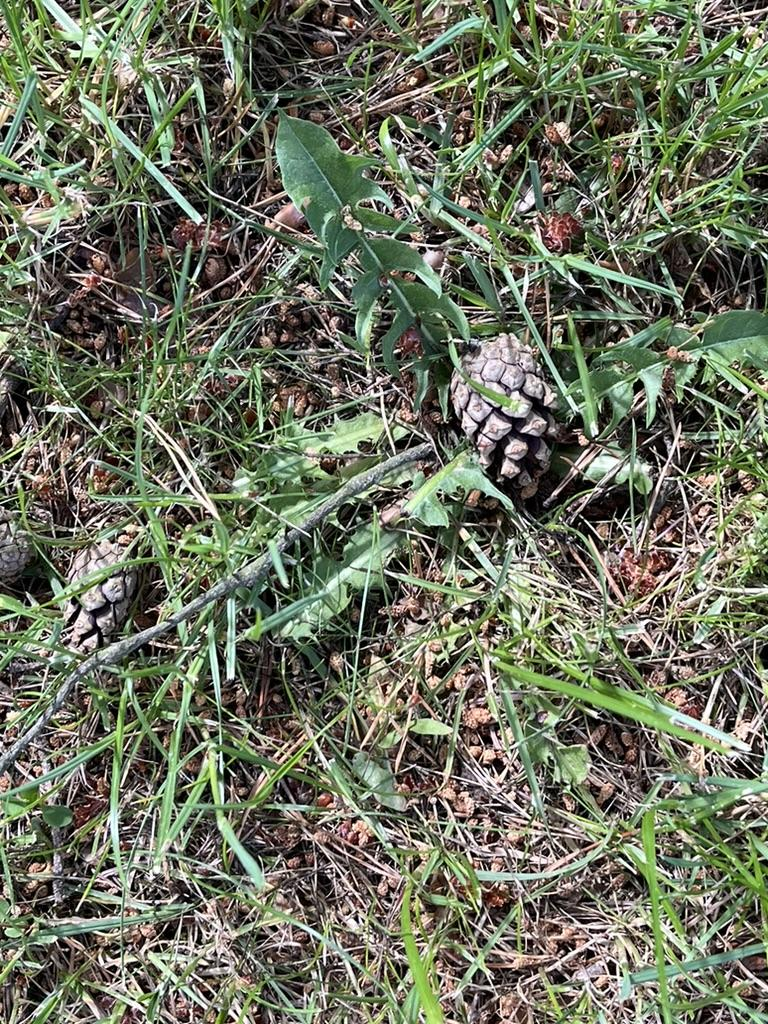pine: (441, 323, 574, 510), (51, 493, 156, 670), (0, 495, 43, 578)
